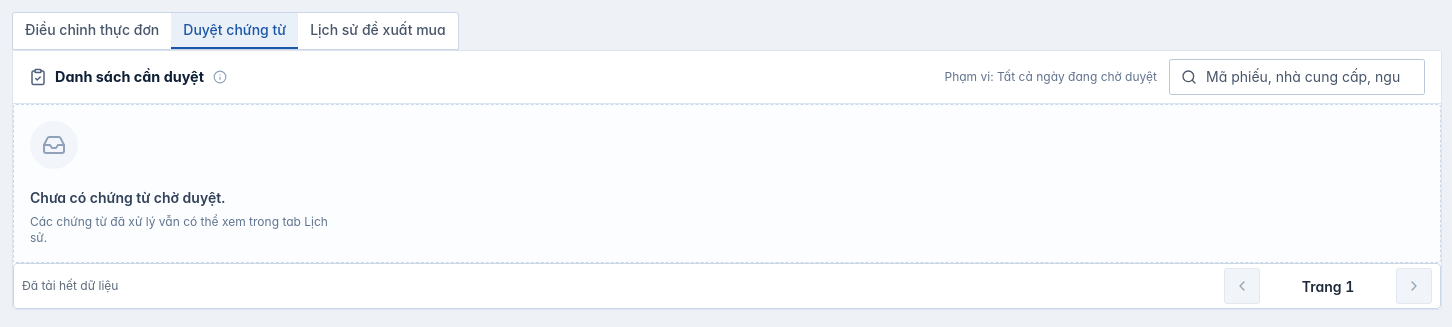
ApprovalPage query state boundary › renders purchase-request forbidden on the history tab without a false empty list
The image size is (1452, 327).
Click the tab "Lịch sử đề xuất mua" at (378, 31), box [298,13,458,49]
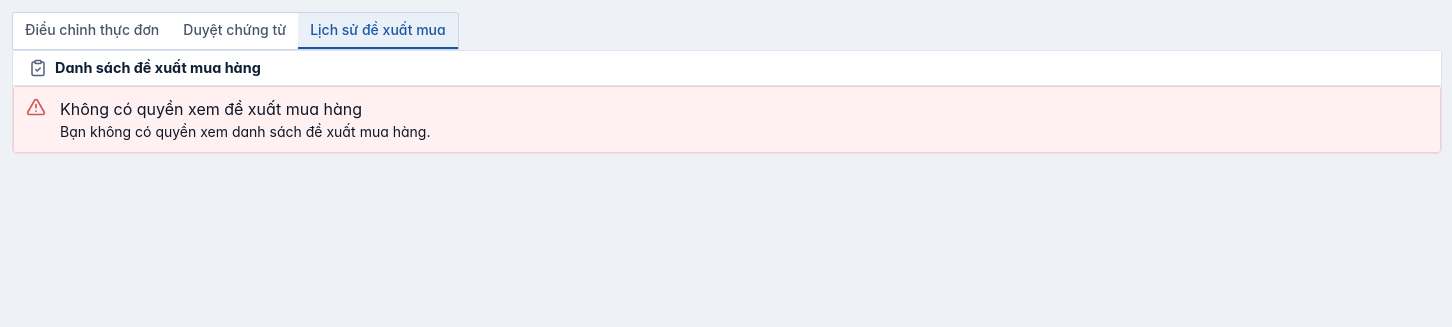
Result: the text "Bạn không có quyền xem danh sách đề xuất mua hàng." is shown at [60,123,430,140]
